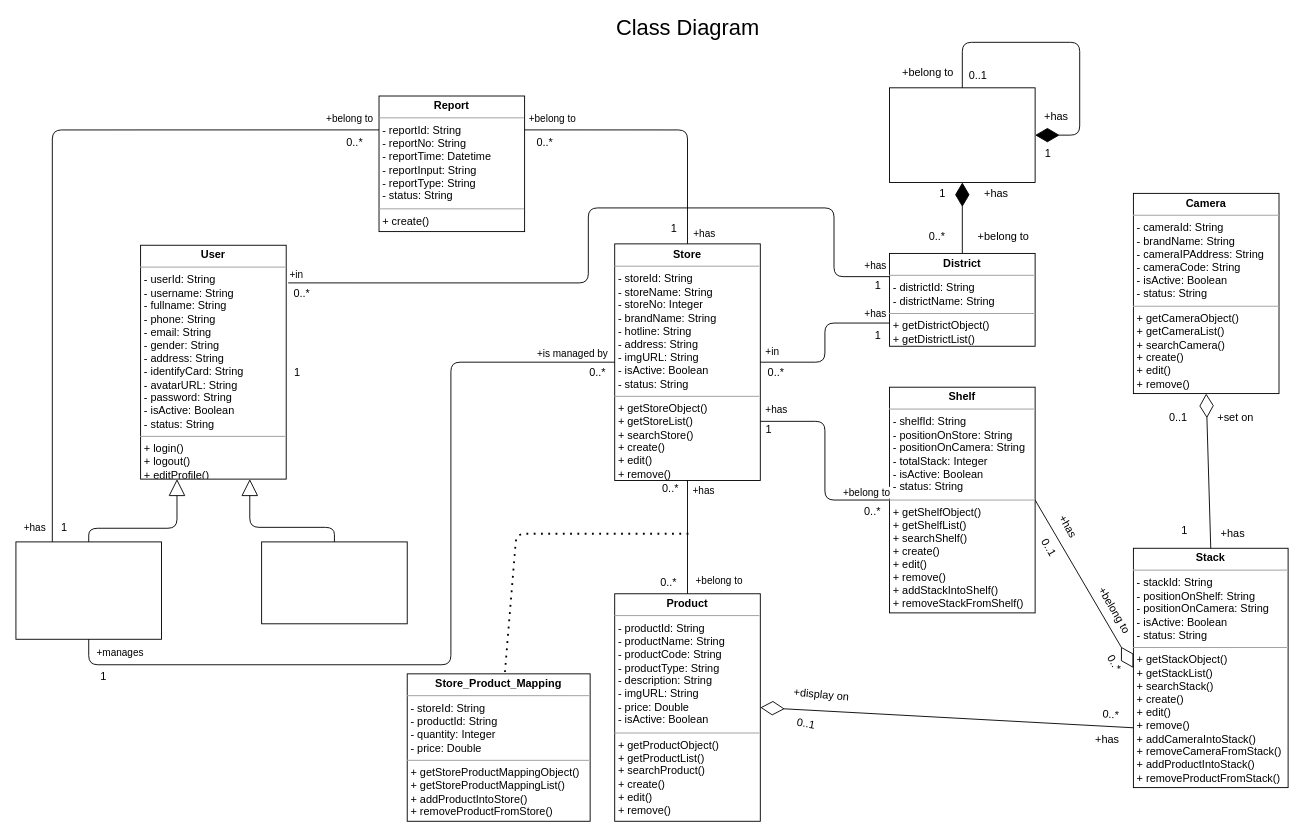
Some shapes in this 1304 by 837 pixel diagram are drawn without their labels. The centre of each missing label's shape, as x and y in pixels:
Admin + approveUser() + removeUser(): [334,582]
City - cityId: String - cityName: String + getCityObject() + getCityList(): [962,134]
Customer + generateReport() + exportPDF() + exportExcell(): [88,590]
